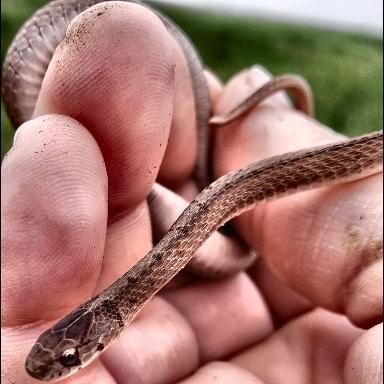snake: (25, 134, 379, 384)
